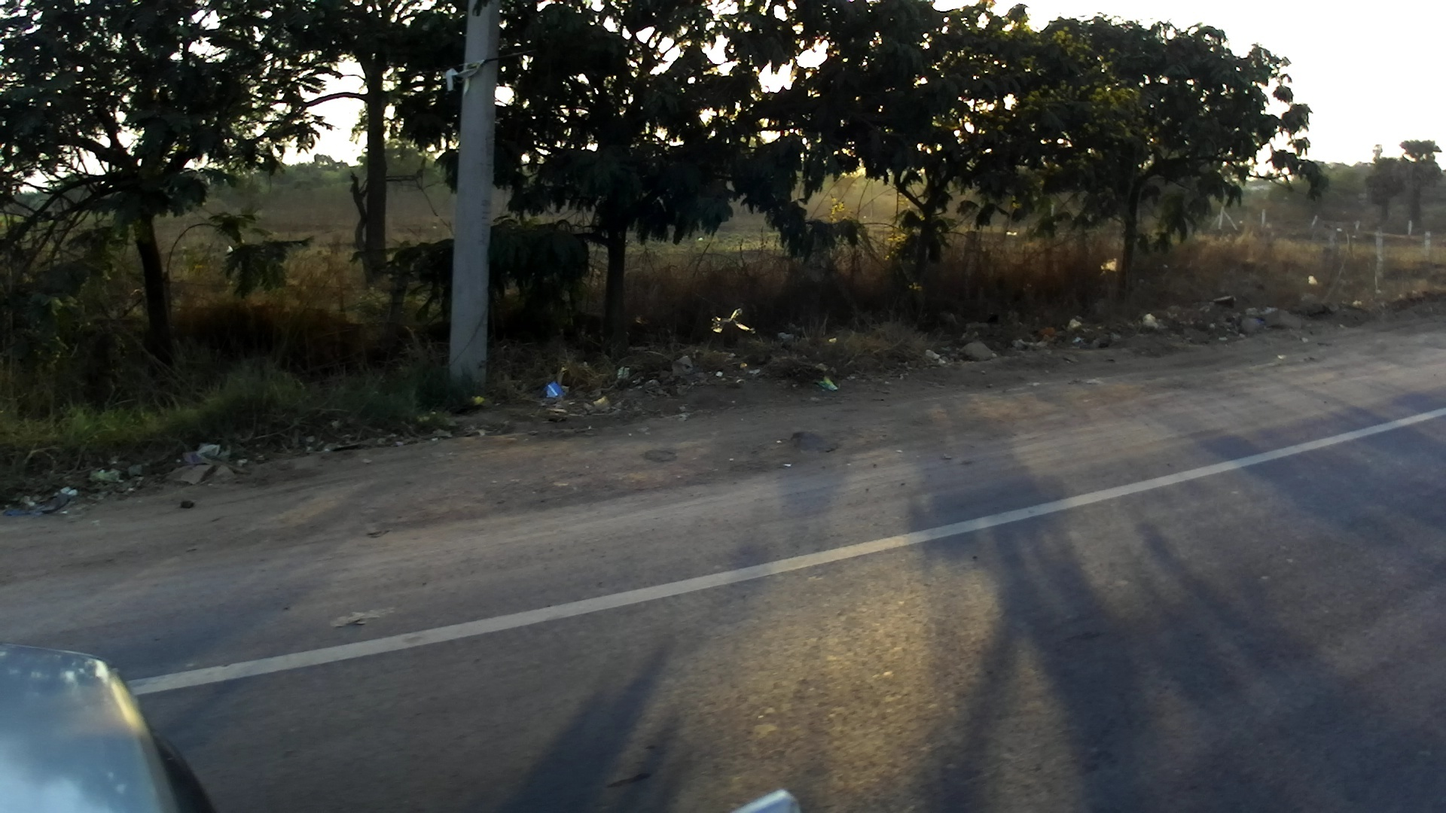vehicle fallback: (1, 641, 213, 811)
